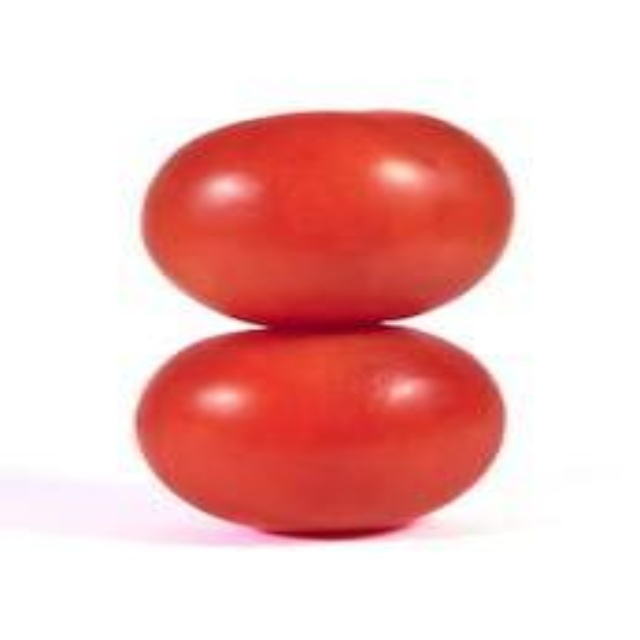tomato: (124, 322, 520, 541), (144, 115, 510, 330)
